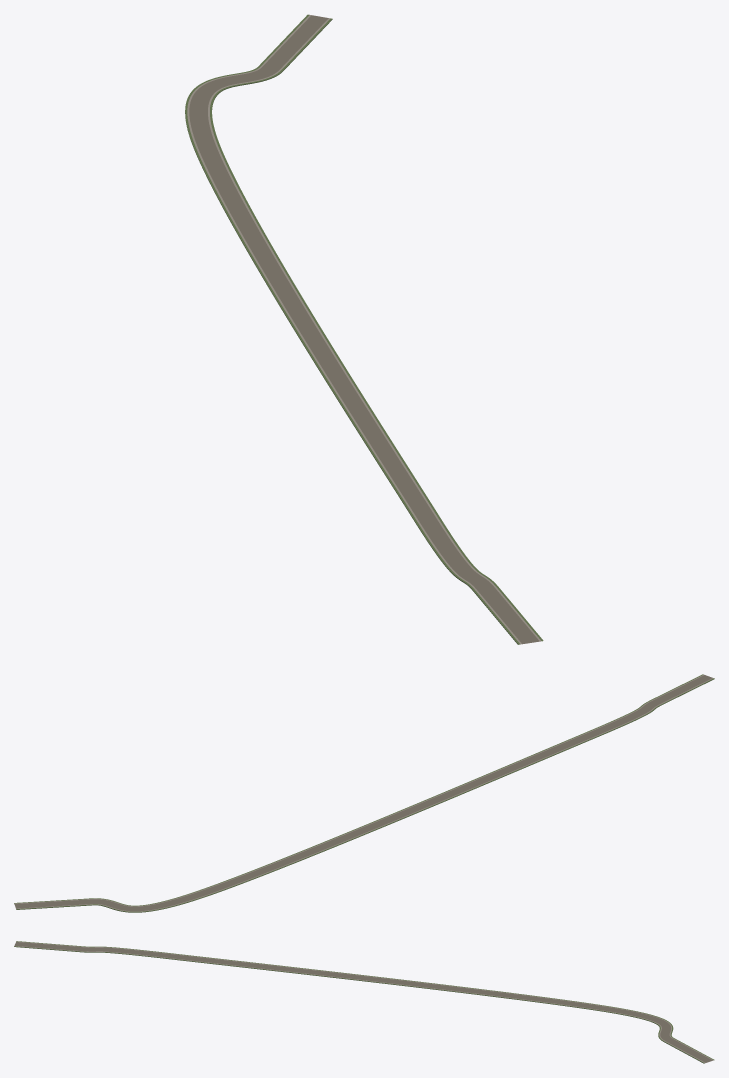
Rendered from road_roam_to2_ridge_gp.glb.
The picture shows the model from 3 angles, top to bottom: view 1: azimuth 30°, elevation 25°; view 2: azimuth 150°, elevation 25°; view 3: azimuth 270°, elevation 25°; orthographic projection. The views are drawn at different scales.
Parts seen in each view (by area): view 1: road; view 2: road; view 3: road.
Part boxes in pixels (x1=…): road: x1=185, y1=14, x2=543, y2=644; road: x1=14, y1=674, x2=714, y2=912; road: x1=14, y1=941, x2=714, y2=1063.
Size of the model in its own units: 258 by 0.32 by 624.
